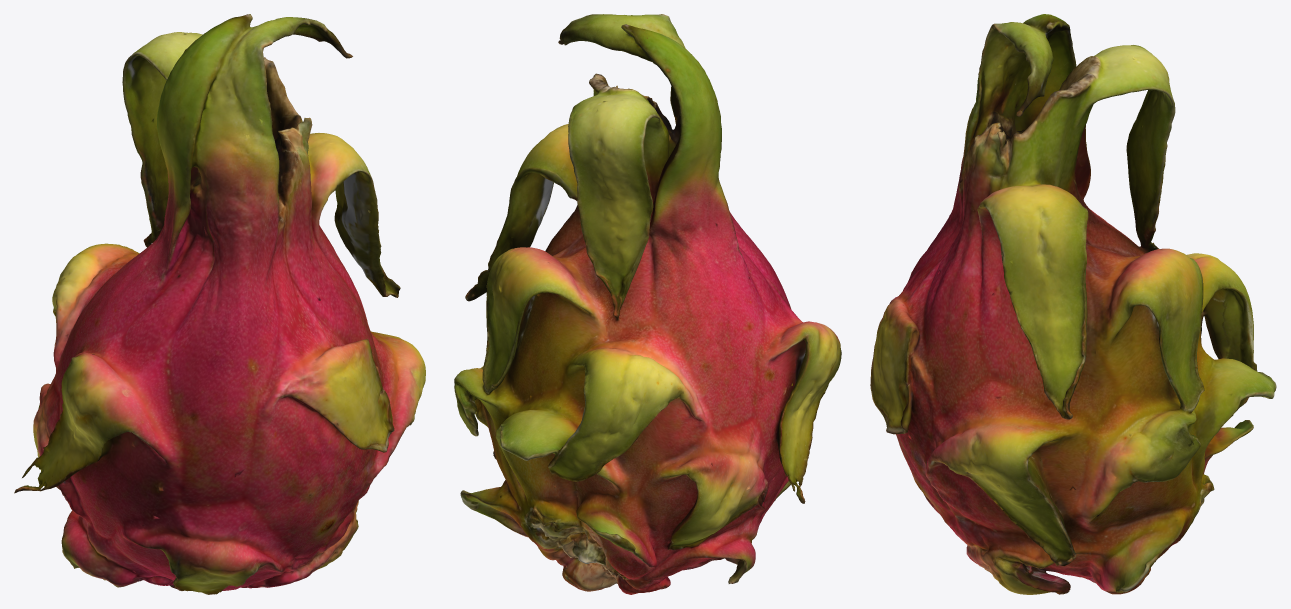
Rendered from pitaija.fbx.
The picture shows the model from 3 angles, left to right: view 1: azimuth 30°, elevation 25°; view 2: azimuth 150°, elevation 25°; view 3: azimuth 270°, elevation 25°; orthographic projection. The views are drawn at different scales.
Visible parts, largest first — view 1: pitaija_100k; view 2: pitaija_100k; view 3: pitaija_100k.
Part boxes in pixels (bbox=[...]): pitaija_100k: bbox=[14, 14, 425, 594]; pitaija_100k: bbox=[454, 14, 841, 594]; pitaija_100k: bbox=[870, 14, 1276, 594].
Bounding box in the file's own units: 243 × 358 × 233.
